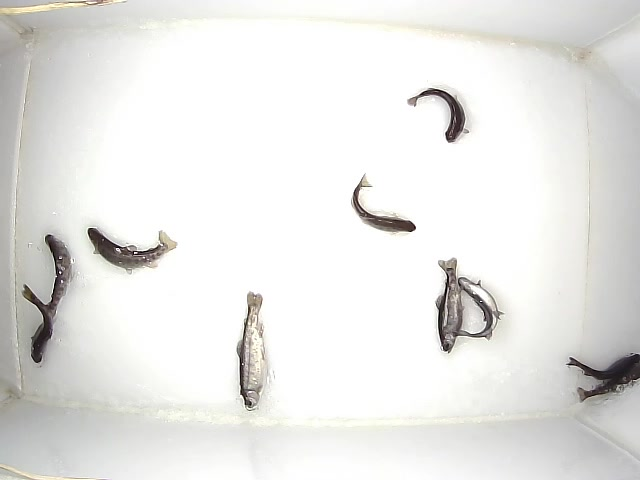fish: (87, 228, 178, 275), (351, 173, 416, 233), (236, 291, 268, 411), (407, 88, 469, 143), (452, 277, 505, 341), (38, 234, 72, 320), (435, 257, 465, 354), (577, 359, 640, 403), (21, 283, 54, 363), (566, 353, 640, 380)
